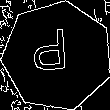P_S: (36, 29, 78, 83)
